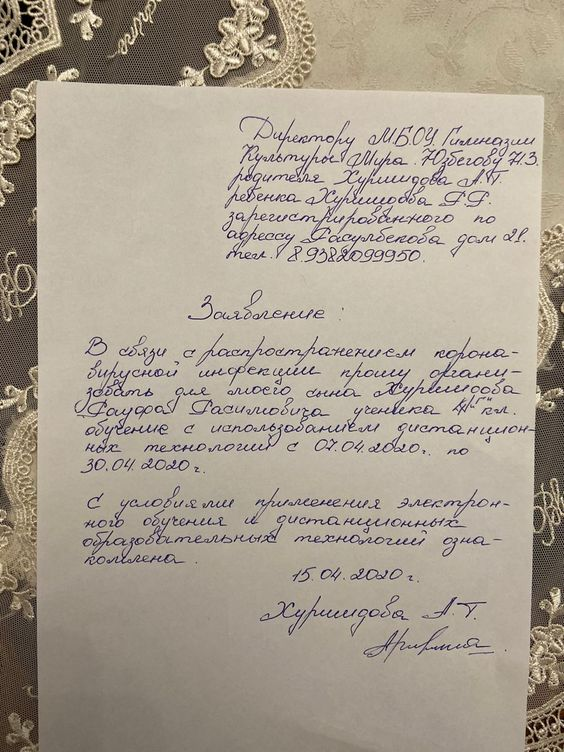page: (40, 94, 528, 752)
